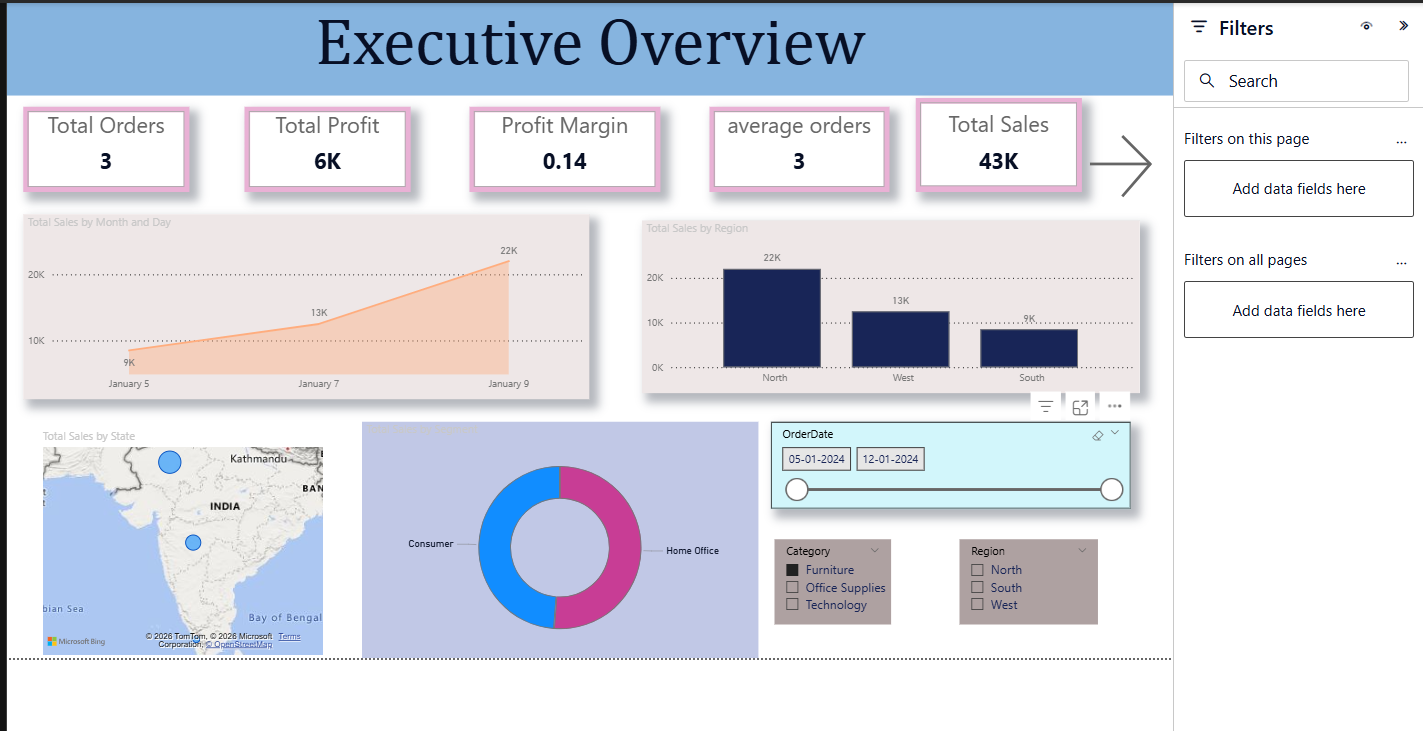

The page's visual inventory and layout, read from the dashboard file:
{"tool":"powerbi","page":{"name":"Page 1","canvas":[1280,720],"ordinal":0},"visuals":[{"type":"cardVisual","fields":{"Data":["retail_sales_data.Total Orders"]},"box":[17.8,113.9,182.5,93.3],"z":0},{"type":"cardVisual","fields":{"Data":["retail_sales_data.average orders"]},"box":[771.2,113.9,197.6,93.3],"z":1000},{"type":"cardVisual","fields":{"Data":["retail_sales_data.Total Sales"]},"box":[997.6,104.3,182.5,102.9],"z":2000},{"type":"cardVisual","fields":{"Data":["retail_sales_data.Total Profit"]},"box":[260.7,113.9,182.5,93.3],"z":3000},{"type":"cardVisual","fields":{"Data":["retail_sales_data.Profit Margin"]},"box":[507.7,113.9,209.9,93.3],"z":4000},{"type":"lineChart","fields":{"Category":["retail_sales_data.OrderDate.Variation.Date Hierarchy.Month","retail_sales_data.OrderDate.Variation.Date Hierarchy.Day"],"Y":["retail_sales_data.Total Sales"]},"box":[17.8,231.9,621.6,203.1],"z":5000},{"type":"clusteredColumnChart","fields":{"Category":["retail_sales_data.Region"],"Y":["retail_sales_data.Total Sales"]},"box":[697.1,238.8,546.1,189.4],"z":6000},{"type":"donutChart","fields":{"Category":["retail_sales_data.Segment"],"Y":["retail_sales_data.Total Sales"]},"box":[389.7,459.7,435,260.7],"z":7000},{"type":"map","fields":{"Category":["retail_sales_data.State"],"Size":["retail_sales_data.Total Sales"]},"box":[34.3,466.6,318.4,253.9],"z":8000},{"type":"slicer","fields":{"Values":["retail_sales_data.Region"]},"box":[1045.6,588.7,152.3,93.3],"z":9000},{"type":"slicer","fields":{"Values":["retail_sales_data.OrderDate"]},"box":[838.4,459.7,395.2,96.1],"z":10000},{"type":"slicer","fields":{"Values":["retail_sales_data.Category"]},"box":[842.5,588.7,127.6,93.3],"z":11000},{"type":"textbox","box":[0,0,1280.3,101.5],"z":12000},{"type":"actionButton","box":[1180.1,137.2,100.2,83.7],"z":13000}]}

Visuals, with their boxes on the page's 1280x720 design canvas (x1, y1, x2, y2). These are canvas units, not pixel positions in the 1423x731 screenshot, which may show the page scaled, cropped or inside an application window:
cardVisual - retail_sales_data.Total Orders: [x1=18, y1=114, x2=200, y2=207]
cardVisual - retail_sales_data.average orders: [x1=771, y1=114, x2=969, y2=207]
cardVisual - retail_sales_data.Total Sales: [x1=998, y1=104, x2=1180, y2=207]
cardVisual - retail_sales_data.Total Profit: [x1=261, y1=114, x2=443, y2=207]
cardVisual - retail_sales_data.Profit Margin: [x1=508, y1=114, x2=718, y2=207]
lineChart - retail_sales_data.OrderDate.Variation.Date Hierarchy.Month x retail_sales_data.OrderDate.Variation.Date Hierarchy.Day: [x1=18, y1=232, x2=639, y2=435]
clusteredColumnChart - retail_sales_data.Region x retail_sales_data.Total Sales: [x1=697, y1=239, x2=1243, y2=428]
donutChart - retail_sales_data.Segment x retail_sales_data.Total Sales: [x1=390, y1=460, x2=825, y2=720]
map - retail_sales_data.State x retail_sales_data.Total Sales: [x1=34, y1=467, x2=353, y2=720]
slicer - retail_sales_data.Region: [x1=1046, y1=589, x2=1198, y2=682]
slicer - retail_sales_data.OrderDate: [x1=838, y1=460, x2=1234, y2=556]
slicer - retail_sales_data.Category: [x1=842, y1=589, x2=970, y2=682]
textbox: [x1=0, y1=0, x2=1280, y2=102]
actionButton: [x1=1180, y1=137, x2=1280, y2=221]
